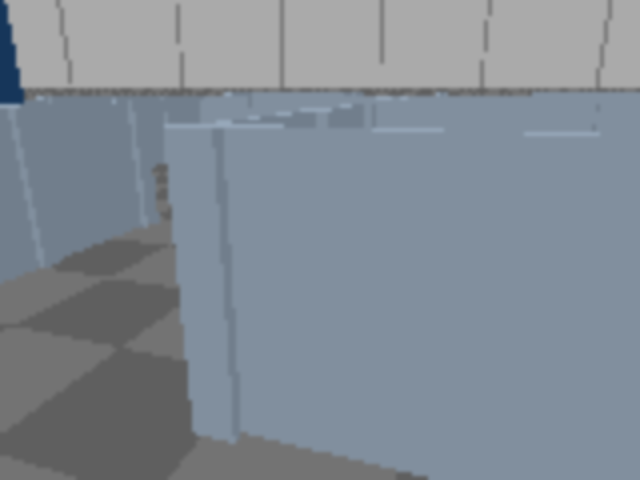person: (0, 0, 30, 260)
